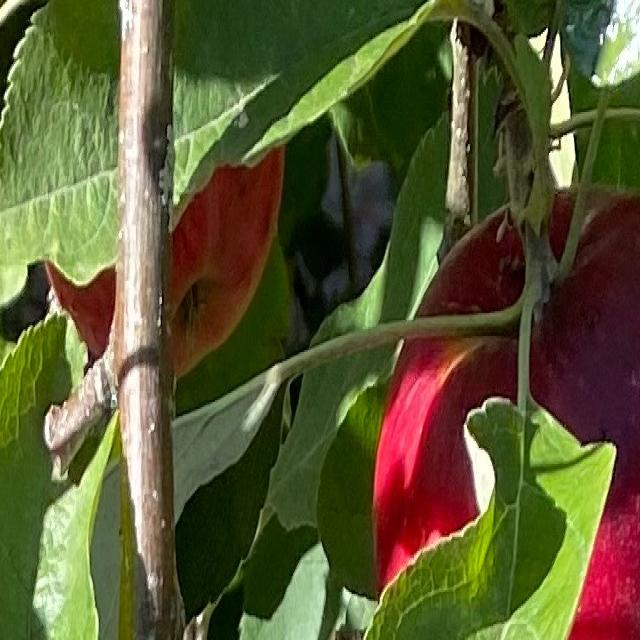100-_ripeness: (374, 181, 640, 640), (47, 140, 284, 374)
